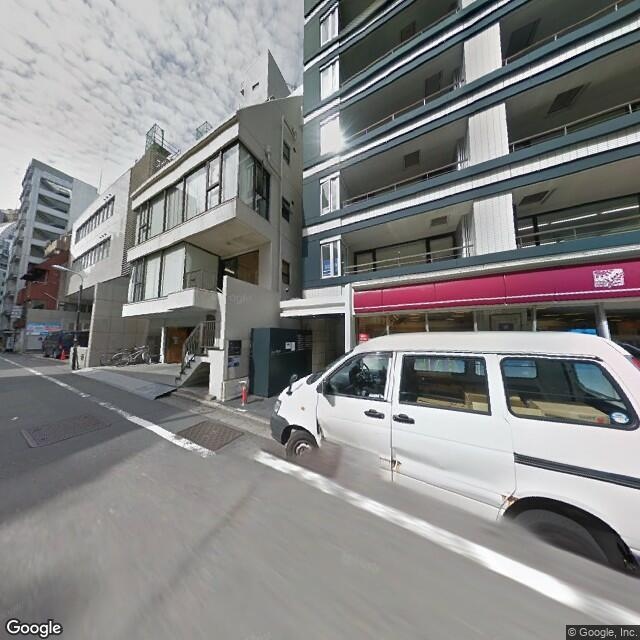lawson: (356, 255, 639, 315)
